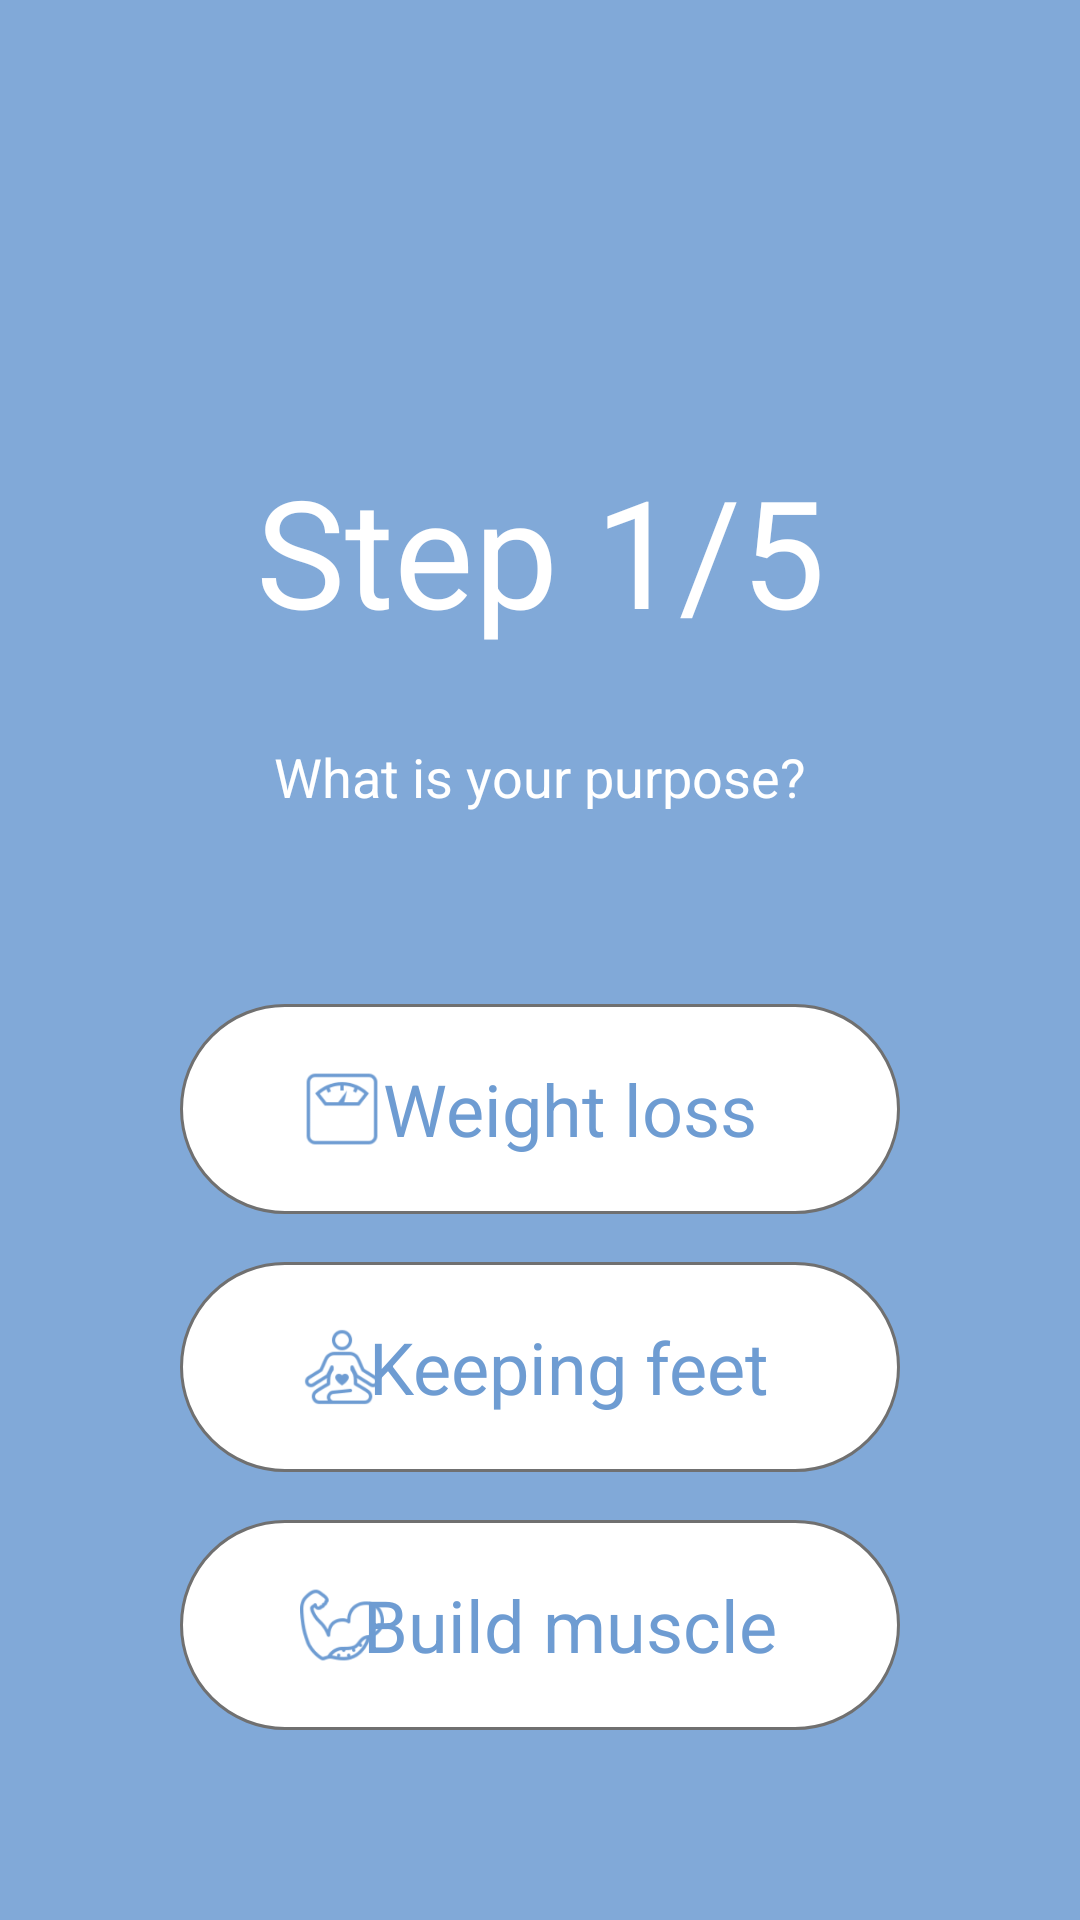

Where icons sit on this 1080 x 1920 app screen, as region(x1, y1, x2, y2):
yoga: region(305, 1330, 384, 1404)
